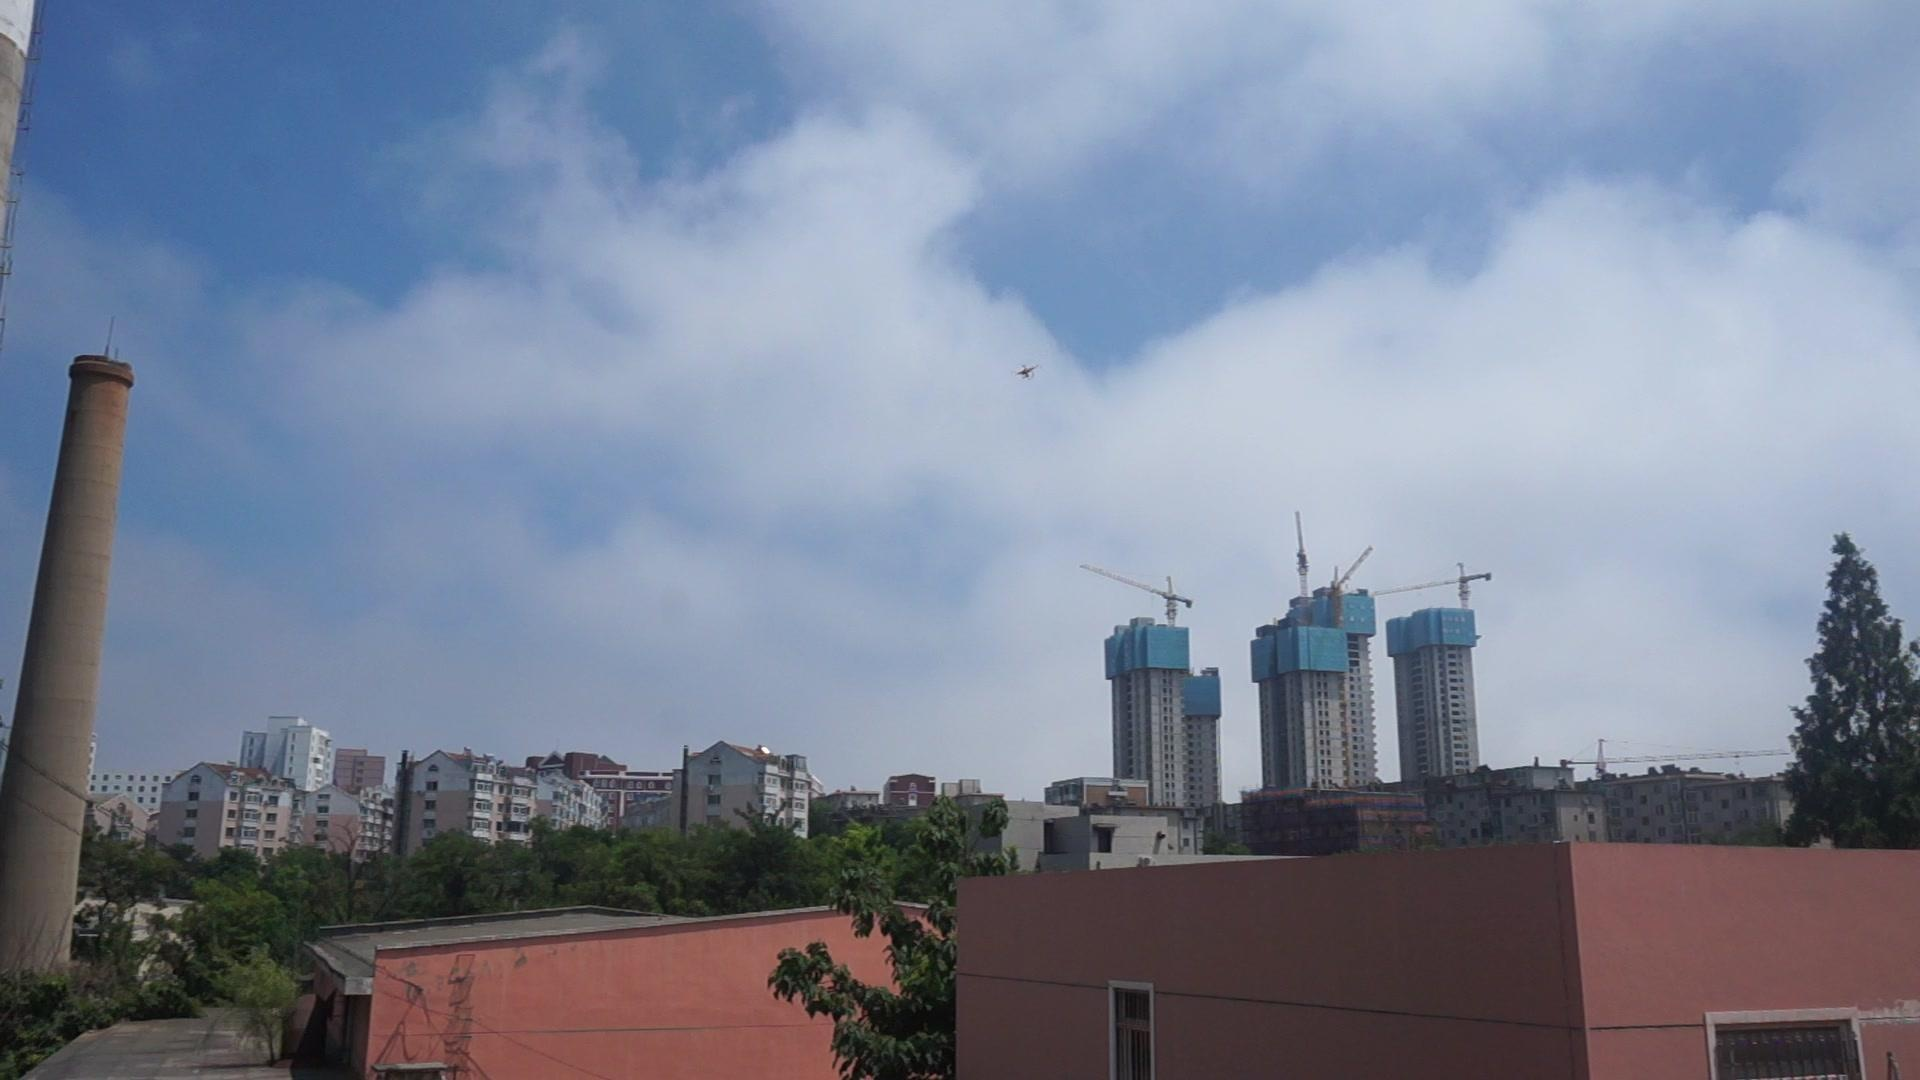UAV: (1015, 364, 1042, 381)
